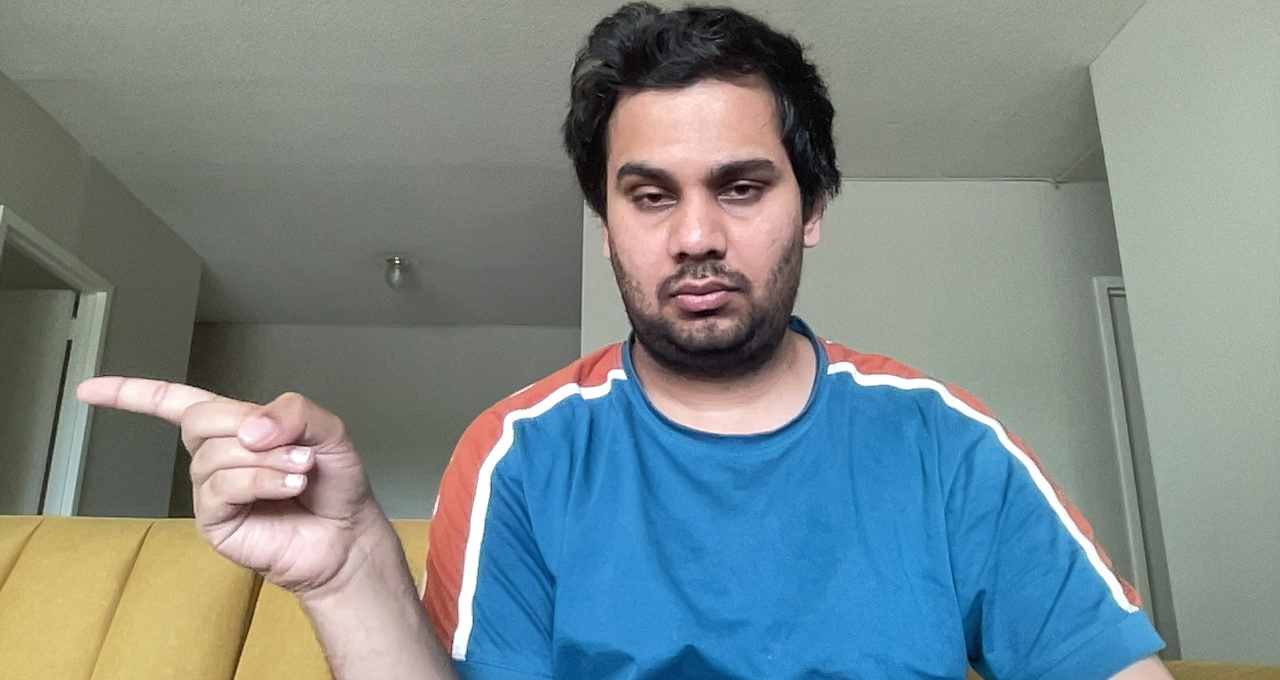fingerright: (72, 361, 385, 603)
